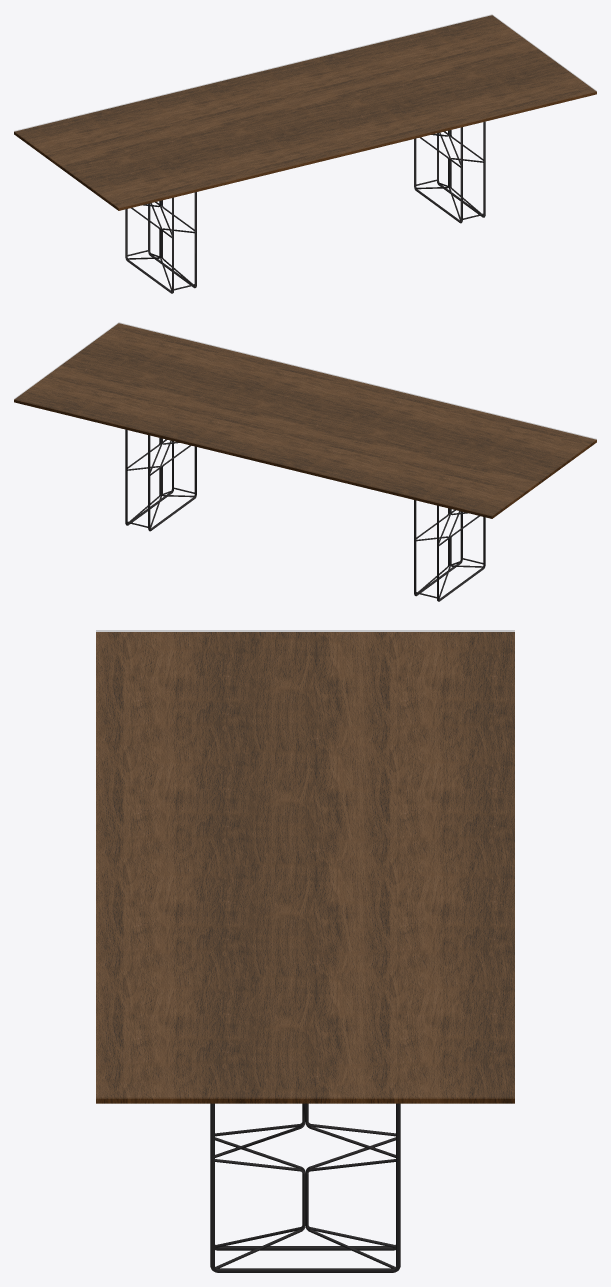
3 views of the same model, one above another, from view 1: azimuth 30°, elevation 25°; view 2: azimuth 150°, elevation 25°; view 3: azimuth 270°, elevation 25° (orthographic). The views are drawn at different scales.
Parts seen in each view (by area): view 1: TAMPO, Group1, Componente, Componen01; view 2: TAMPO, Group1, Componente, Componen01; view 3: TAMPO, Group1, Componente.
Part boxes in pixels (<box>): TAMPO: <box>14,15,596,210</box>; Group1: <box>14,14,596,207</box>; Componente: <box>414,121,485,223</box>; Componen01: <box>125,192,196,293</box>; TAMPO: <box>14,323,596,518</box>; Group1: <box>14,322,596,515</box>; Componente: <box>125,429,196,531</box>; Componen01: <box>414,500,485,601</box>; TAMPO: <box>96,632,514,1103</box>; Group1: <box>96,630,514,1098</box>; Componente: <box>210,1103,400,1272</box>.
Bounding box in the file's own units: 2.9 × 0.7451 × 1.1.
4 materials, 3 textured.
